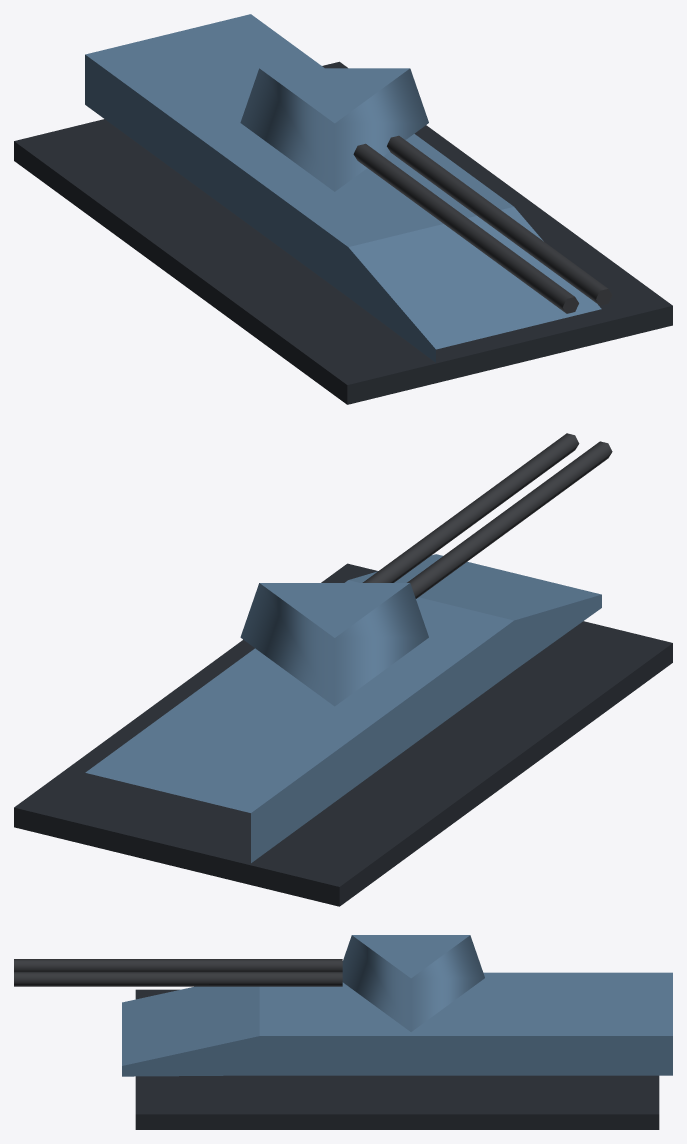
Rendered from veh_ground_tank_heavy_a10_lod2.glb.
The picture shows the model from 3 angles, top to bottom: view 1: azimuth 30°, elevation 25°; view 2: azimuth 150°, elevation 25°; view 3: azimuth 270°, elevation 25°; orthographic projection. The views are drawn at different scales.
Parts seen in each view (by area): view 1: body, turret; view 2: body, turret; view 3: body, turret.
Part boxes in pixels (bbox=[...]): body: bbox=[14, 14, 672, 404]; turret: bbox=[240, 68, 612, 313]; body: bbox=[14, 554, 672, 906]; turret: bbox=[240, 433, 612, 706]; body: bbox=[122, 972, 672, 1129]; turret: bbox=[14, 935, 484, 1031].
Bounding box in the file's own units: 4.31 × 1.95 × 9.63.
